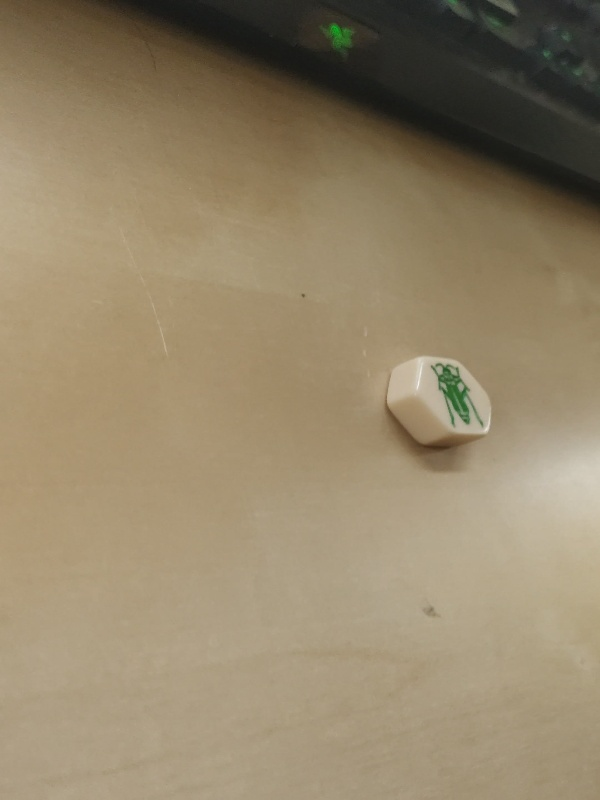white_grasshopper: (389, 352, 490, 452)
